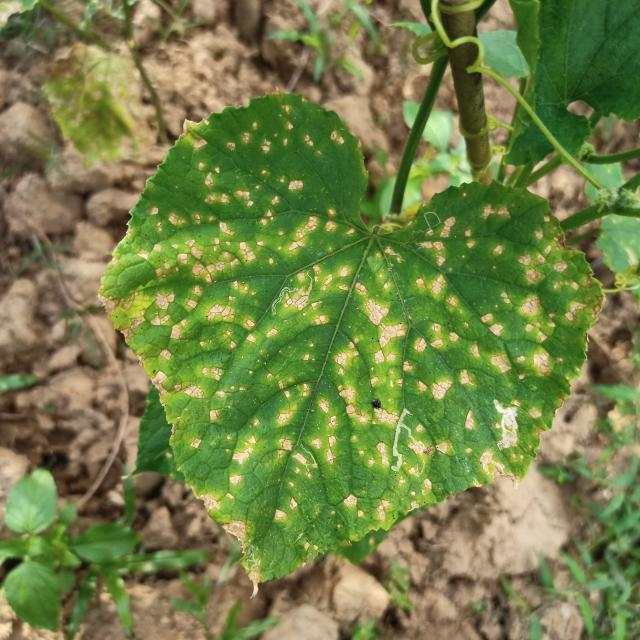disease_cucumber: (119, 130, 549, 554)
